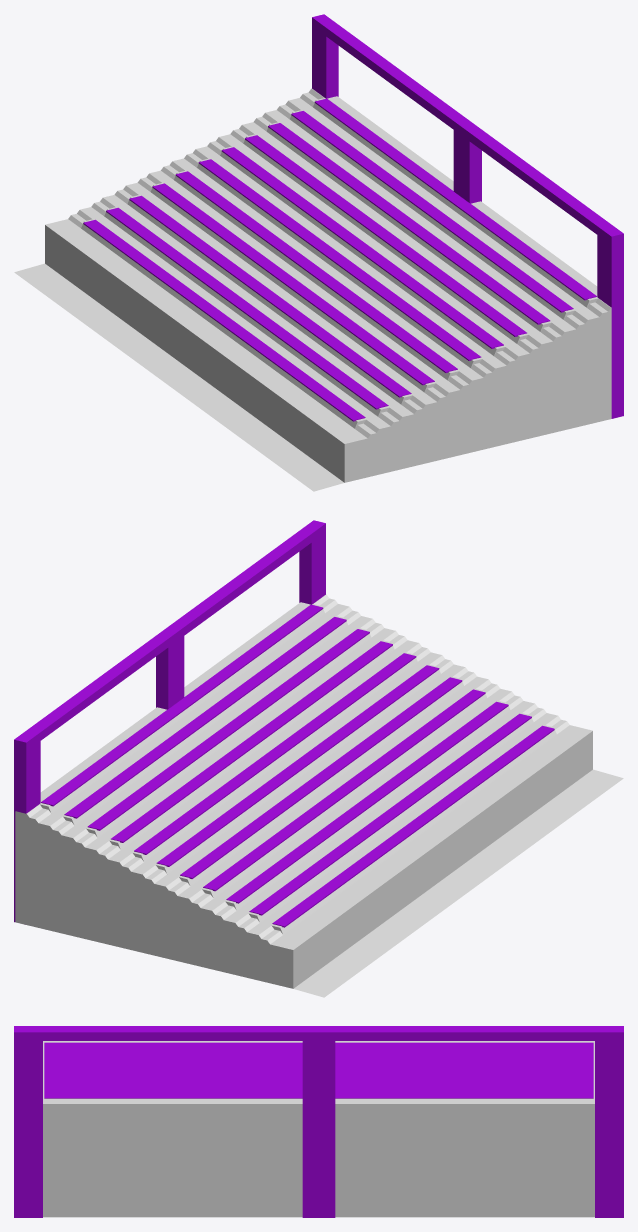
File: Paaty.fbx
3 views of the same model, one above another, from view 1: azimuth 30°, elevation 25°; view 2: azimuth 150°, elevation 25°; view 3: azimuth 270°, elevation 25° (orthographic).
Parts seen in each view (by area): view 1: Paaty; view 2: Paaty; view 3: Paaty.
Part boxes in pixels (x1=…): Paaty: x1=14, y1=14, x2=623, y2=491; Paaty: x1=14, y1=520, x2=623, y2=997; Paaty: x1=14, y1=1026, x2=623, y2=1217.
Bounding box in the file's own units: 25.1 × 14.1 × 42.
